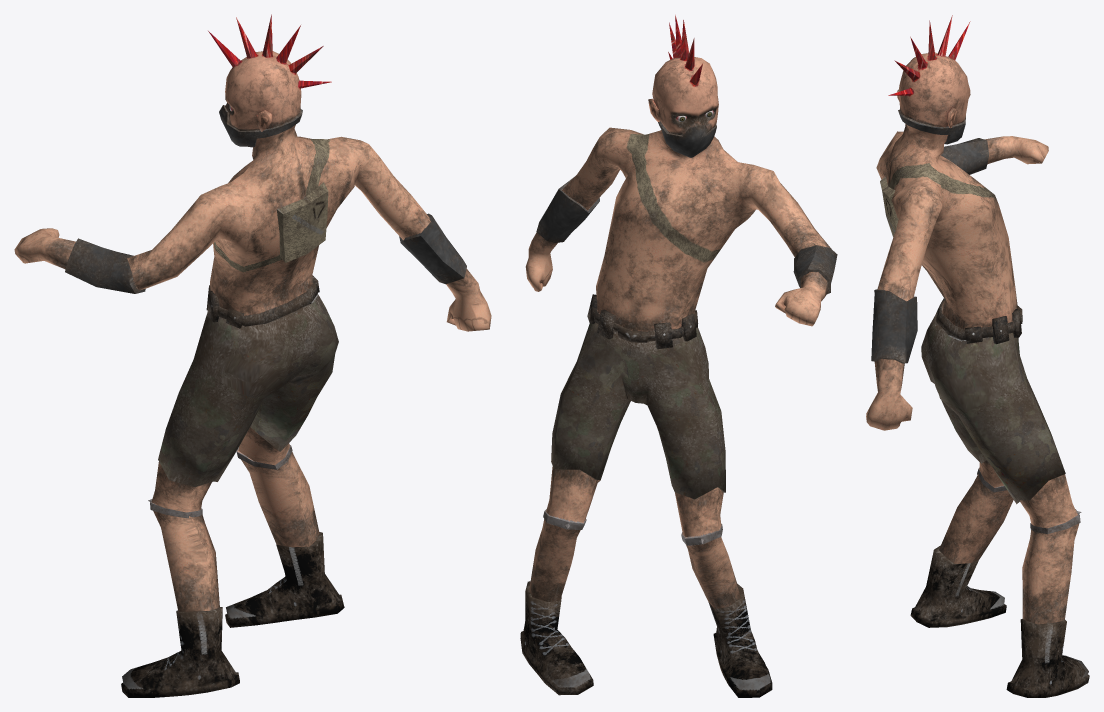
File: Anim_ataque_f3_npc2.0037.obj
3 renders of one model, left to right at view 1: azimuth 30°, elevation 25°; view 2: azimuth 150°, elevation 25°; view 3: azimuth 270°, elevation 25°, orthographic. The views are drawn at different scales.
Parts seen in each view (by area): view 1: polySurface1; view 2: polySurface1; view 3: polySurface1.
Part boxes in pixels (bbox=[...]): polySurface1: bbox=[14, 14, 491, 697]; polySurface1: bbox=[520, 15, 837, 697]; polySurface1: bbox=[866, 15, 1089, 697].
Bounding box in the file's own units: 5.94 × 9.85 × 3.12.
